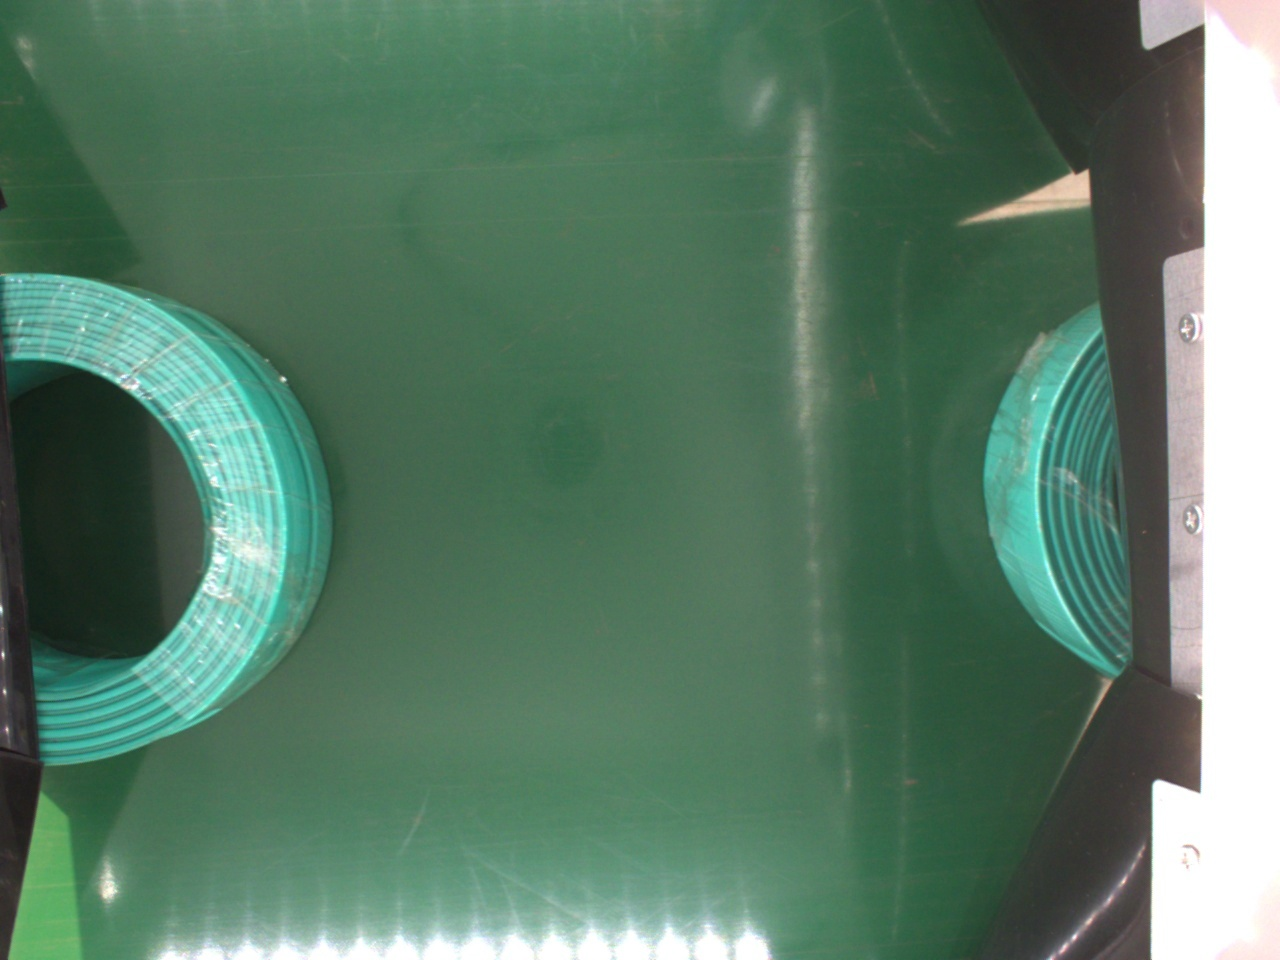green: (8, 269, 335, 769), (978, 305, 1131, 673)
